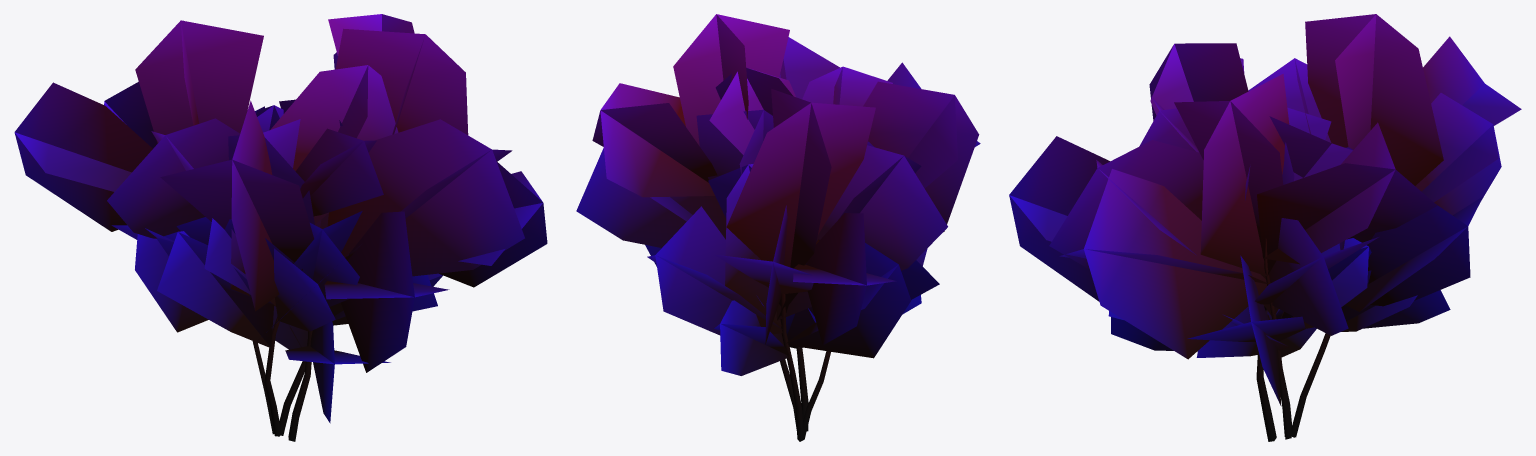
Rendered from Bush_A_02.fbx.
3 renders of one model, left to right at view 1: azimuth 30°, elevation 25°; view 2: azimuth 150°, elevation 25°; view 3: azimuth 270°, elevation 25°, orthographic. The views are drawn at different scales.
Visible parts, largest first — view 1: Bush_A_02; view 2: Bush_A_02; view 3: Bush_A_02.
Boxes of the visible parts, box(x1,y1,x2,y2) form: Bush_A_02: box(14, 14, 547, 441); Bush_A_02: box(576, 14, 980, 441); Bush_A_02: box(1009, 14, 1521, 441).
Bounding box in the file's own units: 475 × 485 × 566.
